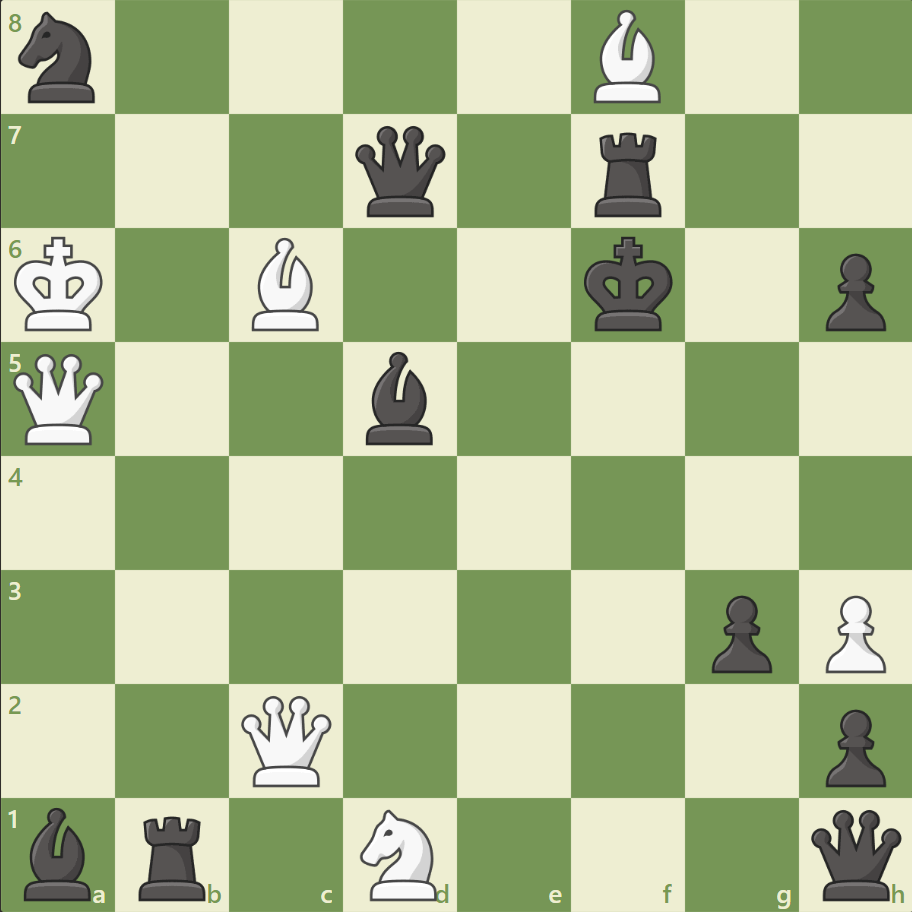B: (585, 6, 669, 109), (244, 233, 328, 336)
K: (11, 231, 111, 339)
N: (351, 802, 449, 904)
P: (815, 586, 889, 677)
Q: (10, 349, 109, 449), (237, 690, 336, 789)
b: (17, 801, 101, 904), (358, 347, 442, 449)
k: (579, 231, 679, 339)
n: (11, 7, 108, 110)
p: (701, 586, 776, 677), (815, 246, 889, 337), (815, 700, 889, 791)
q: (351, 122, 450, 222), (805, 804, 904, 903)
r: (587, 125, 670, 222), (133, 806, 215, 904)
